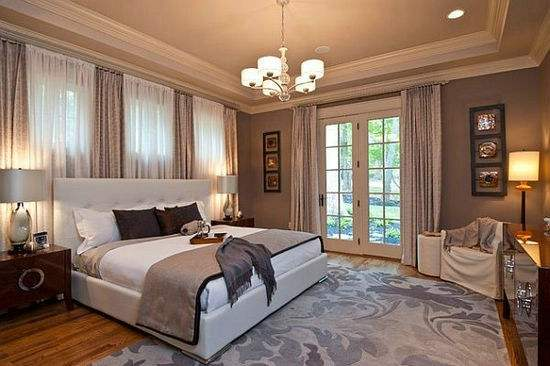床: (67, 226, 328, 346)
枕头: (70, 201, 208, 246)
灯: (240, 8, 327, 102), (3, 162, 43, 250), (507, 149, 540, 240), (214, 170, 241, 221), (442, 9, 468, 23)
